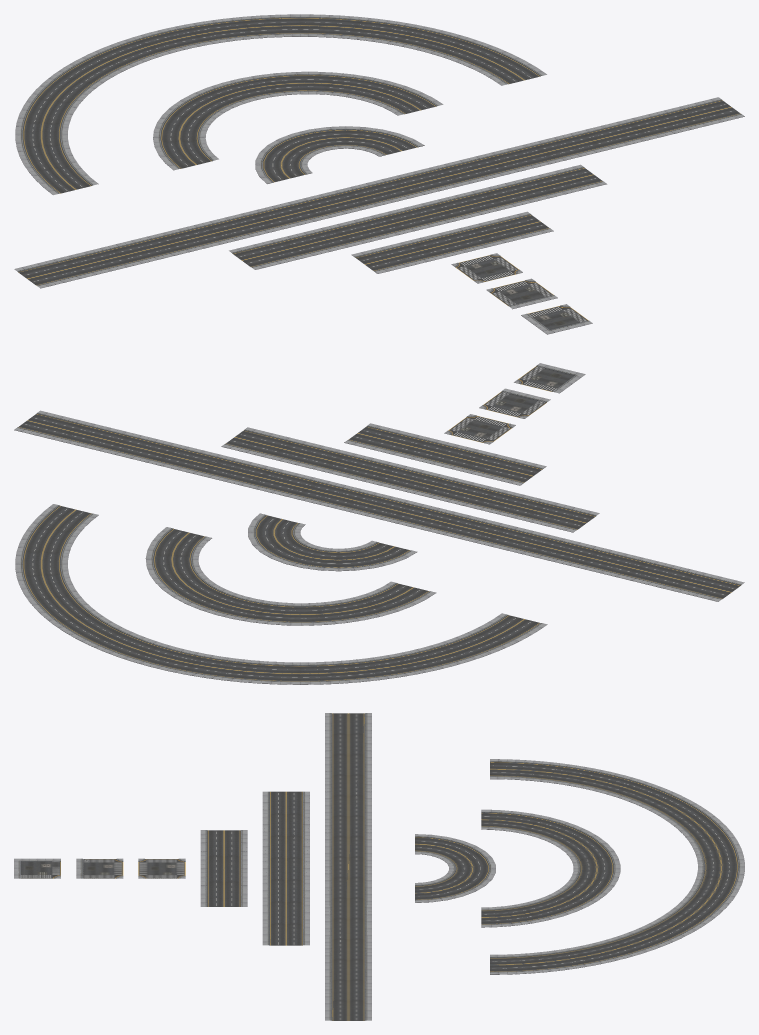
The model's file is roads_modular.glb.
3 views of the same model, one above another, from view 1: azimuth 30°, elevation 25°; view 2: azimuth 150°, elevation 25°; view 3: azimuth 270°, elevation 25° (orthographic). The views are drawn at different scales.
Visible parts, largest first — view 1: Road_4X_Straight, Road_4X_HalfCircle, Road_2X_Straight, Road_2X_HalfCircle, Road_1X_Straight, Road_1X_HalfCircle, Road_T_Intersection, Road_X_Intersection, Road_L_Intersection; view 2: Road_4X_Straight, Road_4X_HalfCircle, Road_2X_Straight, Road_2X_HalfCircle, Road_1X_Straight, Road_1X_HalfCircle, Road_L_Intersection, Road_T_Intersection, Road_X_Intersection; view 3: Road_4X_HalfCircle, Road_4X_Straight, Road_2X_HalfCircle, Road_2X_Straight, Road_1X_HalfCircle, Road_1X_Straight, Road_L_Intersection, Road_X_Intersection, Road_T_Intersection.
Boxes of the visible parts, <box> form: Road_4X_Straight: <box>14,97,744,288</box>; Road_4X_HalfCircle: <box>15,14,546,194</box>; Road_2X_Straight: <box>229,164,606,269</box>; Road_2X_HalfCircle: <box>153,71,443,170</box>; Road_1X_Straight: <box>351,211,553,273</box>; Road_1X_HalfCircle: <box>255,126,424,183</box>; Road_T_Intersection: <box>486,278,557,309</box>; Road_X_Intersection: <box>451,253,522,283</box>; Road_L_Intersection: <box>521,304,592,334</box>; Road_4X_Straight: <box>14,410,744,601</box>; Road_4X_HalfCircle: <box>15,504,547,684</box>; Road_2X_Straight: <box>221,427,599,532</box>; Road_2X_HalfCircle: <box>145,527,436,625</box>; Road_1X_Straight: <box>344,423,546,485</box>; Road_1X_HalfCircle: <box>248,513,417,571</box>; Road_L_Intersection: <box>514,363,585,393</box>; Road_T_Intersection: <box>479,388,550,418</box>; Road_X_Intersection: <box>444,414,515,444</box>; Road_4X_HalfCircle: <box>490,759,744,974</box>; Road_4X_Straight: <box>325,713,371,1020</box>; Road_2X_HalfCircle: <box>481,809,620,927</box>; Road_2X_Straight: <box>262,791,309,945</box>; Road_1X_HalfCircle: <box>415,834,495,902</box>; Road_1X_Straight: <box>200,830,247,906</box>; Road_L_Intersection: <box>14,858,60,878</box>; Road_X_Intersection: <box>138,858,185,878</box>; Road_T_Intersection: <box>76,858,123,878</box>.
Bounding box in the file's own units: 585 × 0.3116 × 588.
2 materials, 2 textured.
